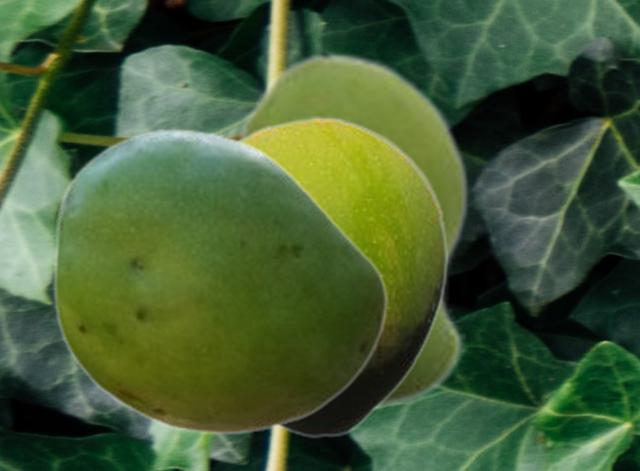green_mango: (52, 127, 387, 435), (233, 51, 470, 415), (237, 116, 448, 438)
